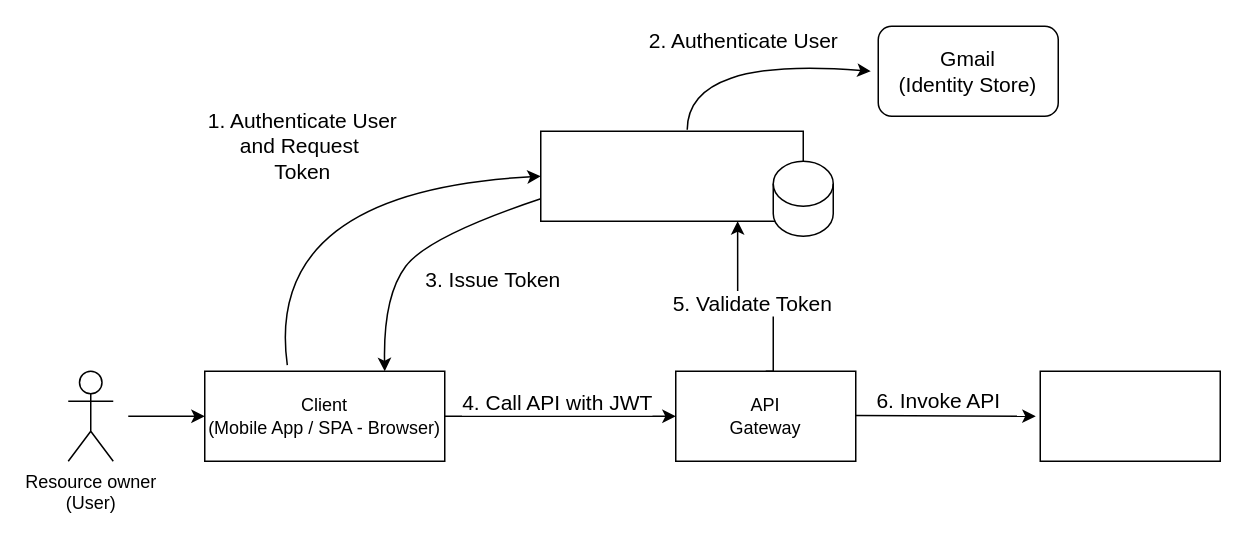
The diagram is 1247 pixels wide and 542 high, and some of its shapes have lost their labels. The shapes that lost their labels are listed below. From the top down, each one's box as (x1, y1, x2, y2) in pixels, then its label:
(539, 130, 803, 221): Auth0 (Authorization Server)
(1039, 370, 1220, 461): API Provider
